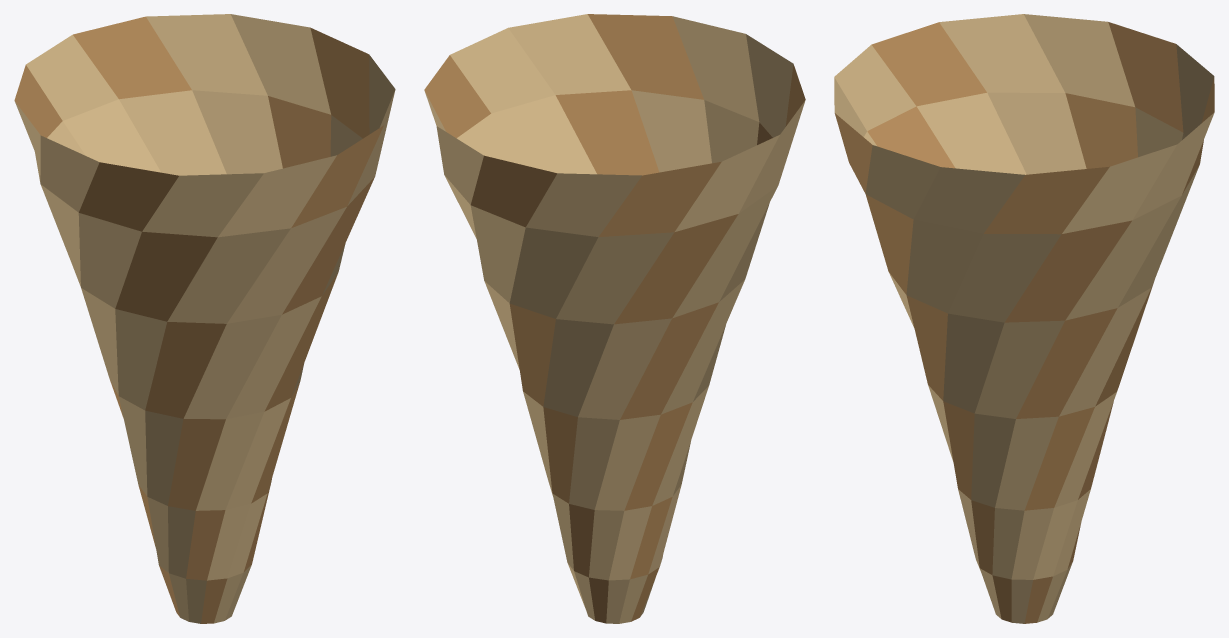
The model's file is Tornado.fbx.
The picture shows the model from 3 angles, left to right: view 1: azimuth 30°, elevation 25°; view 2: azimuth 150°, elevation 25°; view 3: azimuth 270°, elevation 25°; orthographic projection.
Visible parts, largest first — view 1: Tornado; view 2: Tornado; view 3: Tornado.
Part boxes in pixels (box(x1,y1,x2,y2)): Tornado: box(14, 14, 395, 623); Tornado: box(424, 14, 805, 623); Tornado: box(834, 14, 1214, 623).
Size of the model in its own units: 40 by 60 by 40.
